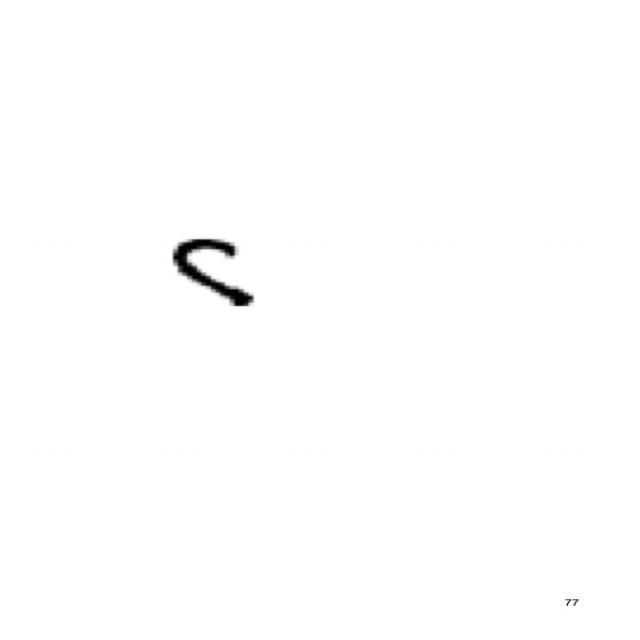2 -two-: (156, 226, 270, 321)
